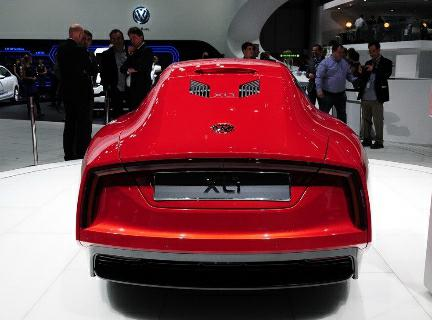大众-XL1: (65, 58, 378, 300)
